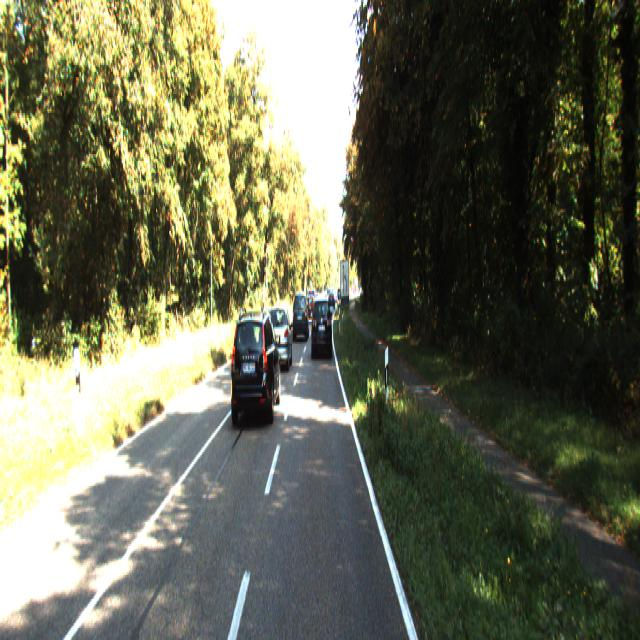Car: (230, 306, 280, 428), (267, 301, 292, 370), (311, 292, 331, 355), (292, 289, 308, 337)
